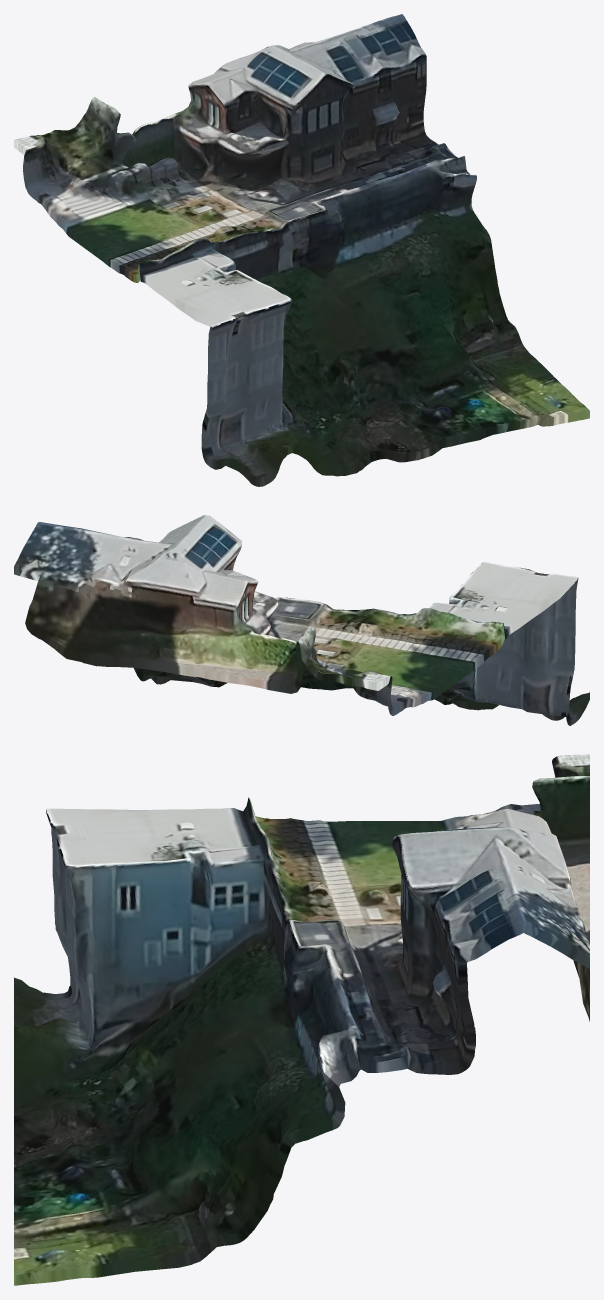
File: z20-167722-405193-h0-yup-uvflip-v3-world.glb
The picture shows the model from 3 angles, top to bottom: view 1: azimuth 30°, elevation 25°; view 2: azimuth 150°, elevation 25°; view 3: azimuth 270°, elevation 25°; orthographic projection. The views are drawn at different scales.
Bounding box in the file's own units: 30.16 × 21.48 × 30.32.
Materials: 1 (1 with a texture image).
